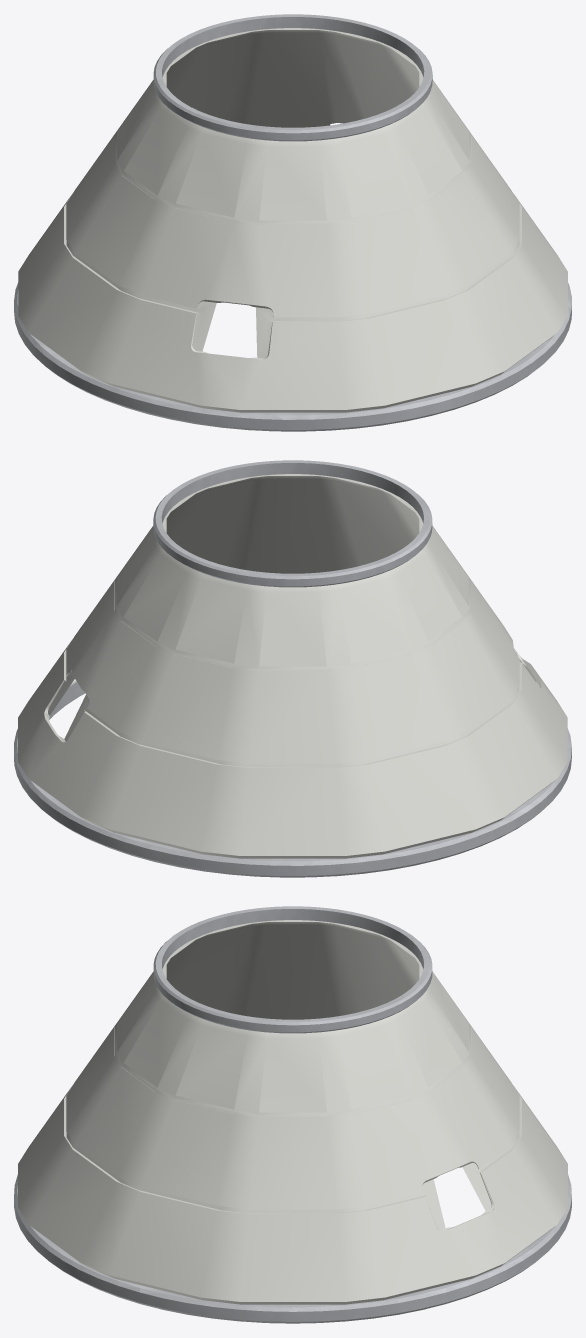
Rendered from ax_struct_05_skip_adapter_m_xl.glb.
3 renders of one model, top to bottom at view 1: azimuth 30°, elevation 25°; view 2: azimuth 150°, elevation 25°; view 3: azimuth 270°, elevation 25°, orthographic.
Parts seen in each view (by area): view 1: adapter_shell, interface_rings; view 2: adapter_shell, interface_rings; view 3: adapter_shell, interface_rings.
Part boxes in pixels (x1,y1,x2,y2): adapter_shell: [18, 28, 567, 412]; interface_rings: [14, 14, 571, 431]; adapter_shell: [18, 474, 567, 858]; interface_rings: [14, 460, 571, 877]; adapter_shell: [18, 920, 567, 1304]; interface_rings: [14, 906, 571, 1323].
Bounding box in the file's own units: 5 × 2.4 × 5.
2 materials, 1 textured.
